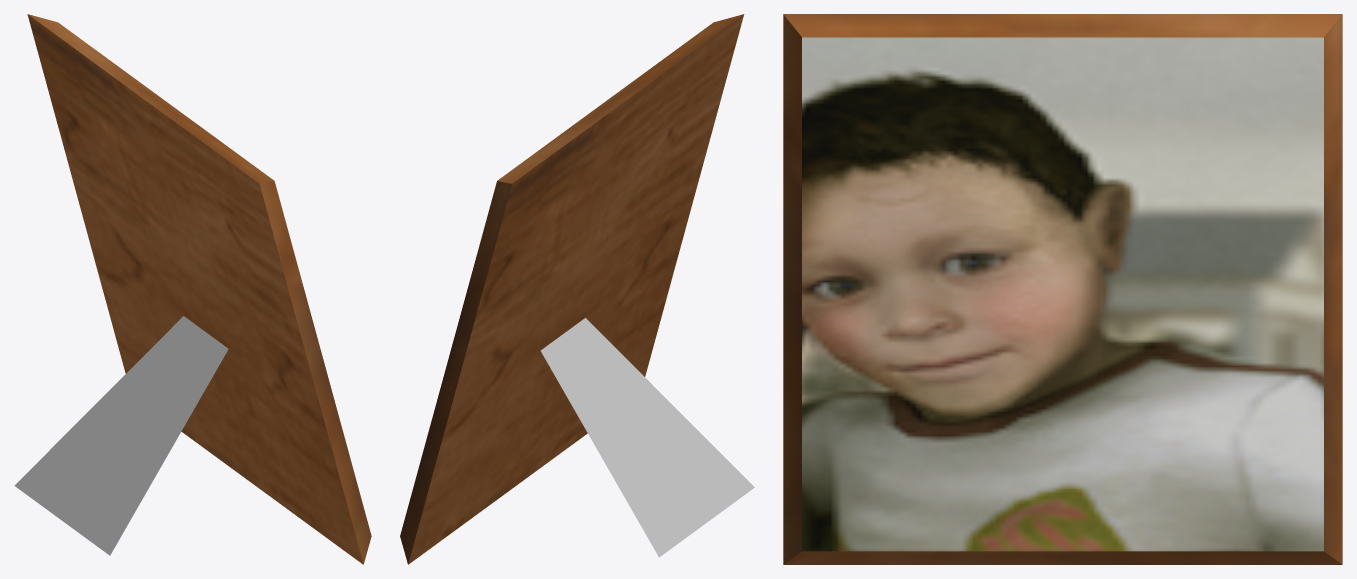
Rendered from M_Home_Garden_Photoframe_02.fbx.
The picture shows the model from 3 angles, left to right: view 1: azimuth 30°, elevation 25°; view 2: azimuth 150°, elevation 25°; view 3: azimuth 270°, elevation 25°; orthographic projection. The views are drawn at different scales.
Parts seen in each view (by area): view 1: M_Home_Garden_Photoframe_02; view 2: M_Home_Garden_Photoframe_02; view 3: M_Home_Garden_Photoframe_02.
Part boxes in pixels (x1=…): M_Home_Garden_Photoframe_02: x1=14, y1=14, x2=371, y2=564; M_Home_Garden_Photoframe_02: x1=400, y1=14, x2=754, y2=564; M_Home_Garden_Photoframe_02: x1=783, y1=14, x2=1342, y2=564.
Bounding box in the file's own units: 11.57 × 22.46 × 23.26.
